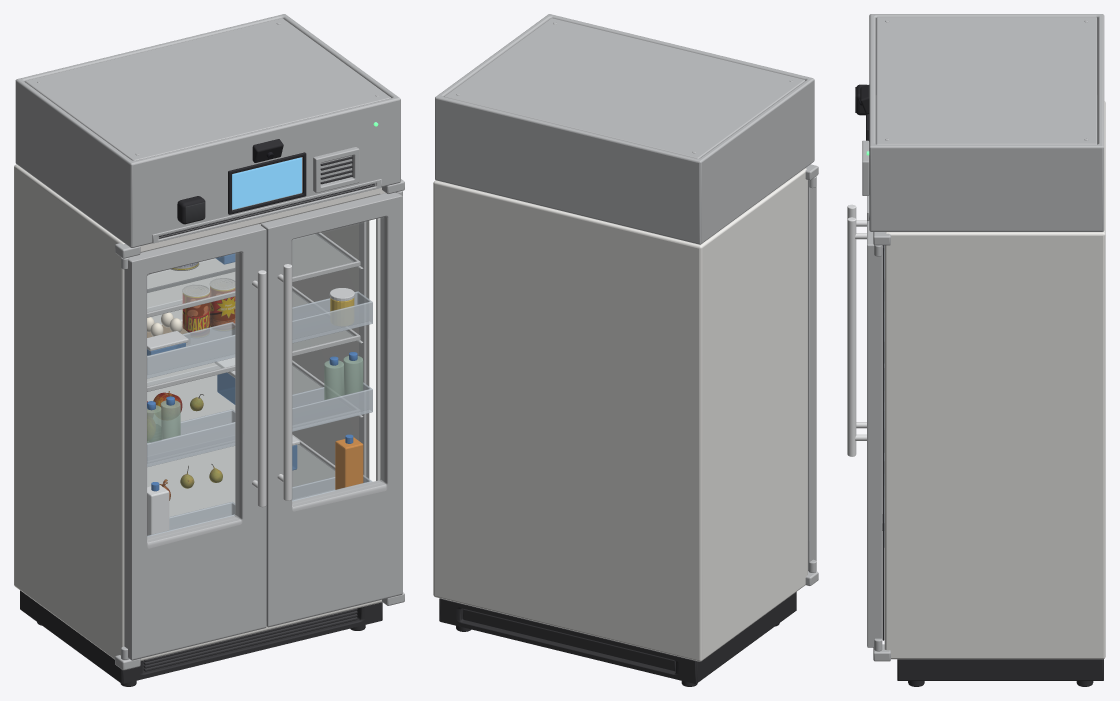
Rendered from fridge.glb.
The picture shows the model from 3 angles, left to right: view 1: azimuth 30°, elevation 25°; view 2: azimuth 150°, elevation 25°; view 3: azimuth 270°, elevation 25°; orthographic projection. The views are drawn at different scales.
Visible parts, largest first — view 1: Cabinet_Shell, Door_L_Frame, Door_R_Frame, Electronics_Housing, Electronics_Top_Panel, Door_L_Glass, Door_R_Glass, Cabinet_Liner, Interior_Rear_Panel, Shelf_01_Glass, Shelf_04_Glass, Cabinet_Plinth (+27 smaller); view 2: Cabinet_Shell, Electronics_Housing, Electronics_Top_Panel, Cabinet_Plinth, Door_L_Frame, Cabinet_Compressor_Bay; view 3: Cabinet_Shell, Electronics_Top_Panel, Electronics_Housing, Door_R_Frame, Cabinet_Plinth, Door_R_Handle, Door_R_Gasket, Sensor_Enclosure.
Boxes of the visible parts, <box> form: Cabinet_Shell: <box>14,164,385,660</box>; Door_L_Frame: <box>124,224,266,660</box>; Door_R_Frame: <box>260,192,402,627</box>; Electronics_Housing: <box>15,14,400,247</box>; Electronics_Top_Panel: <box>25,18,391,160</box>; Door_L_Glass: <box>147,253,238,539</box>; Door_R_Glass: <box>292,217,383,504</box>; Cabinet_Liner: <box>147,218,380,486</box>; Interior_Rear_Panel: <box>147,319,235,516</box>; Shelf_01_Glass: <box>147,444,334,516</box>; Shelf_04_Glass: <box>147,234,353,311</box>; Cabinet_Plinth: <box>20,590,382,683</box>; Cabinet_Shell: <box>433,168,807,661</box>; Electronics_Housing: <box>435,14,814,244</box>; Electronics_Top_Panel: <box>444,18,805,158</box>; Cabinet_Plinth: <box>439,592,796,683</box>; Door_L_Frame: <box>808,180,816,570</box>; Cabinet_Compressor_Bay: <box>463,609,675,671</box>; Cabinet_Shell: <box>884,101,1105,659</box>; Electronics_Top_Panel: <box>876,17,1097,144</box>; Electronics_Housing: <box>869,14,1104,231</box>; Door_R_Frame: <box>867,221,882,647</box>; Cabinet_Plinth: <box>897,659,1103,680</box>; Door_R_Handle: <box>847,217,856,456</box>; Door_R_Gasket: <box>882,245,884,640</box>; Sensor_Enclosure: <box>862,140,869,195</box>.
Size of the model in its own units: 1.04 by 1.9 by 0.812.
32 materials, 4 textured.
